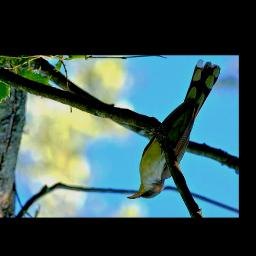Cuckoo: (127, 60, 220, 199)
